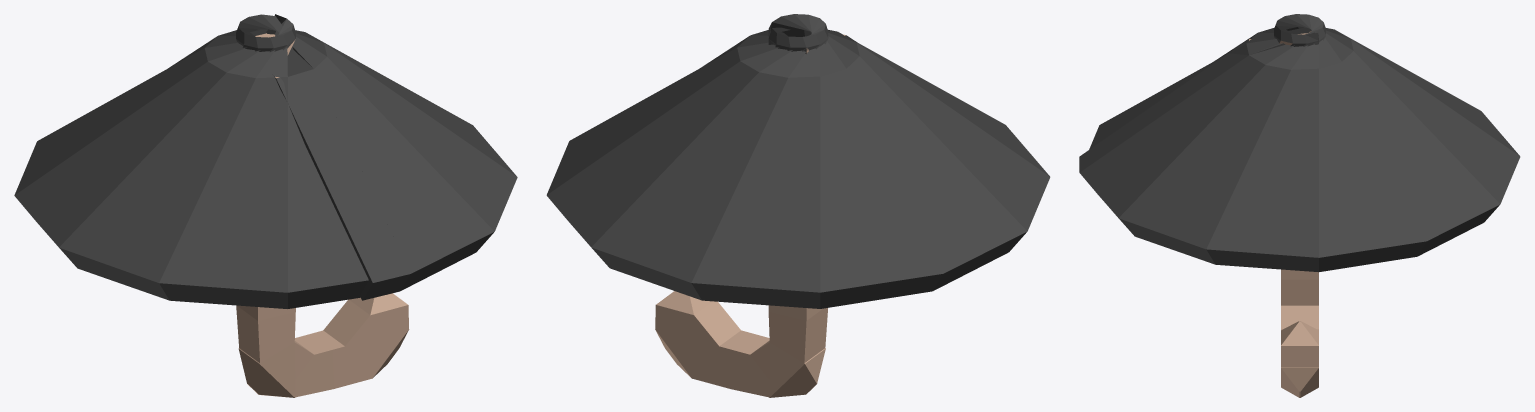
Rendered from umbrella_open.fbx.
3 views of the same model, side by side, from view 1: azimuth 30°, elevation 25°; view 2: azimuth 150°, elevation 25°; view 3: azimuth 270°, elevation 25° (orthographic). The views are drawn at different scales.
Visible parts, largest first — view 1: Cube; view 2: Cube; view 3: Cube.
Boxes of the visible parts, <box> form: Cube: <box>14,14,517,397</box>; Cube: <box>546,14,1050,397</box>; Cube: <box>1079,14,1520,397</box>.
Bounding box in the file's own units: 2303 × 1863 × 2303.
